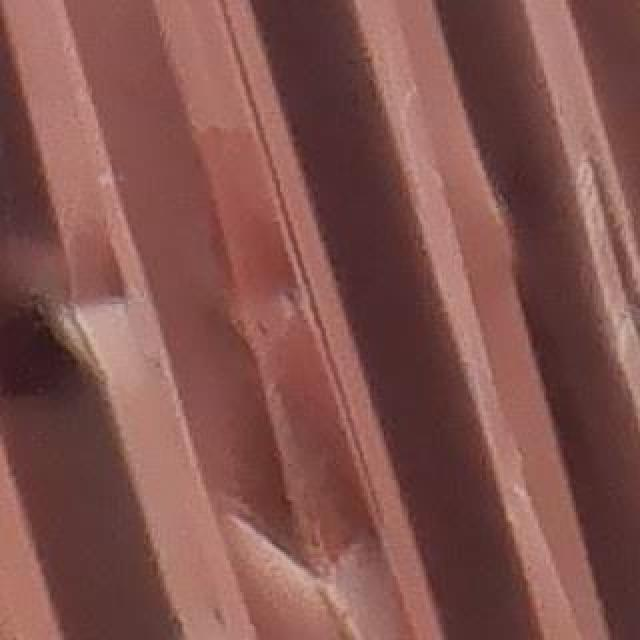dent: (27, 131, 453, 639), (565, 135, 640, 393)
